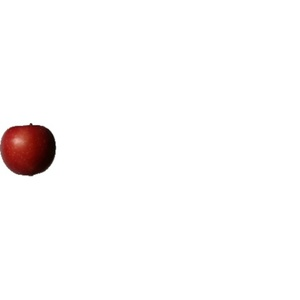maçã braeburn: (1, 124, 58, 179)
